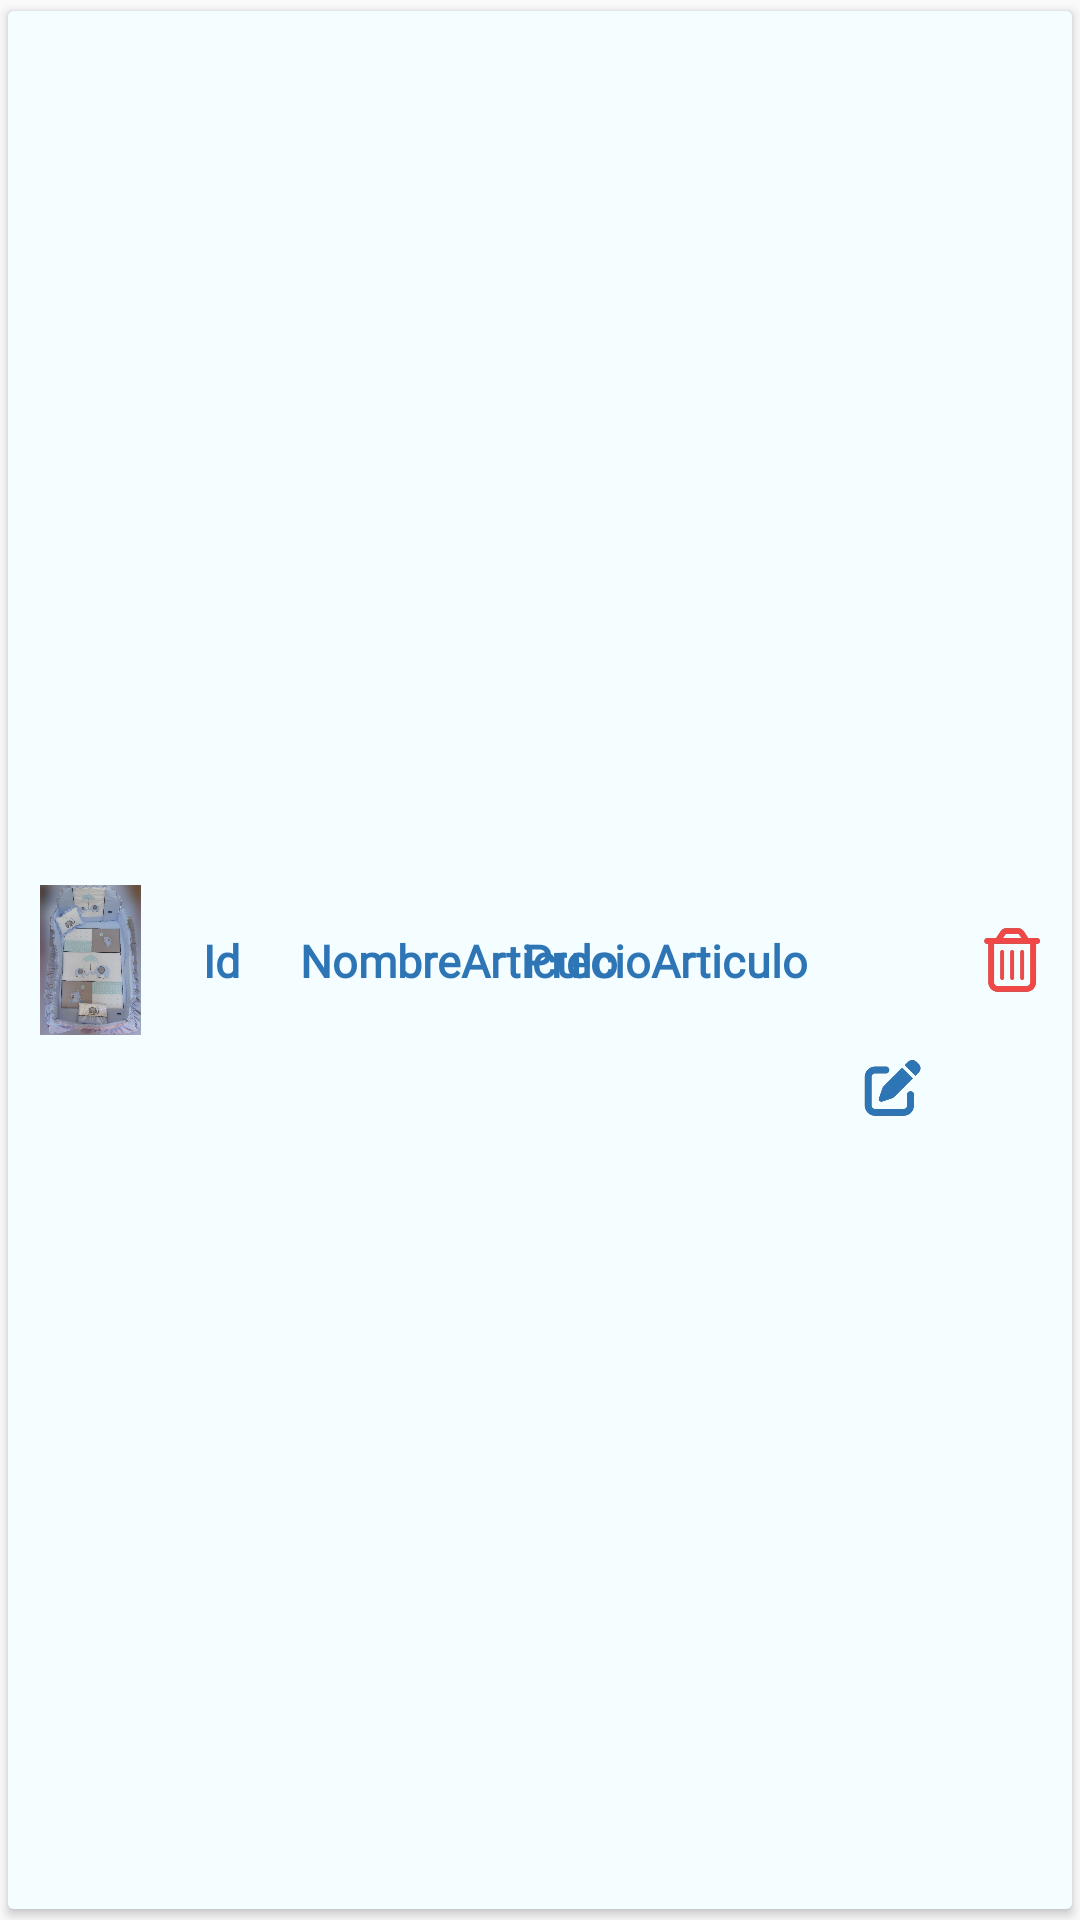

Named icons in this screenshot (1080px x 1920px) and their centers, (x,y):
editar: (892,1088)
trash: (1012,960)
